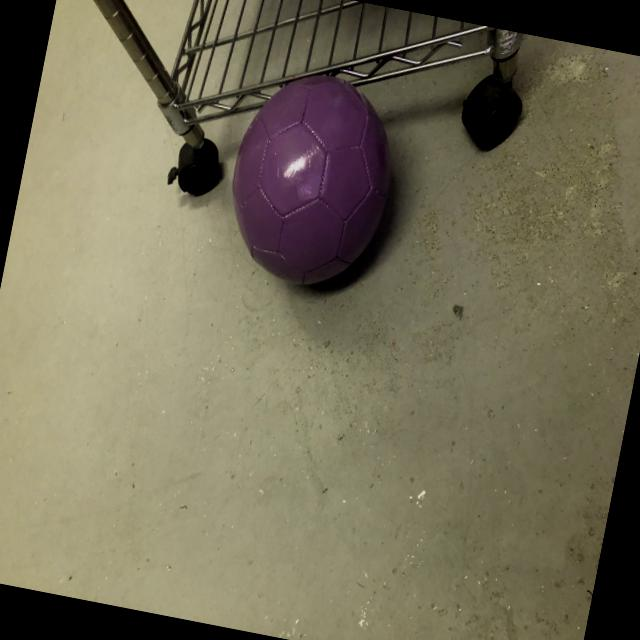purple_ball: (215, 63, 408, 300)
